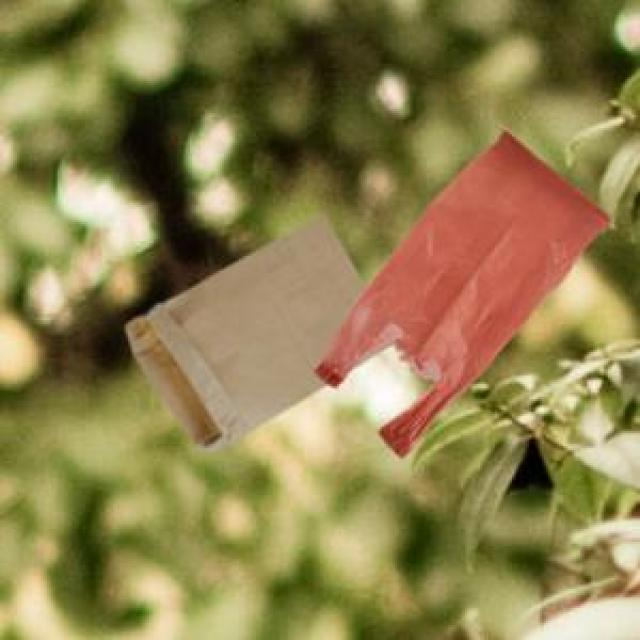paper: (122, 211, 361, 448)
